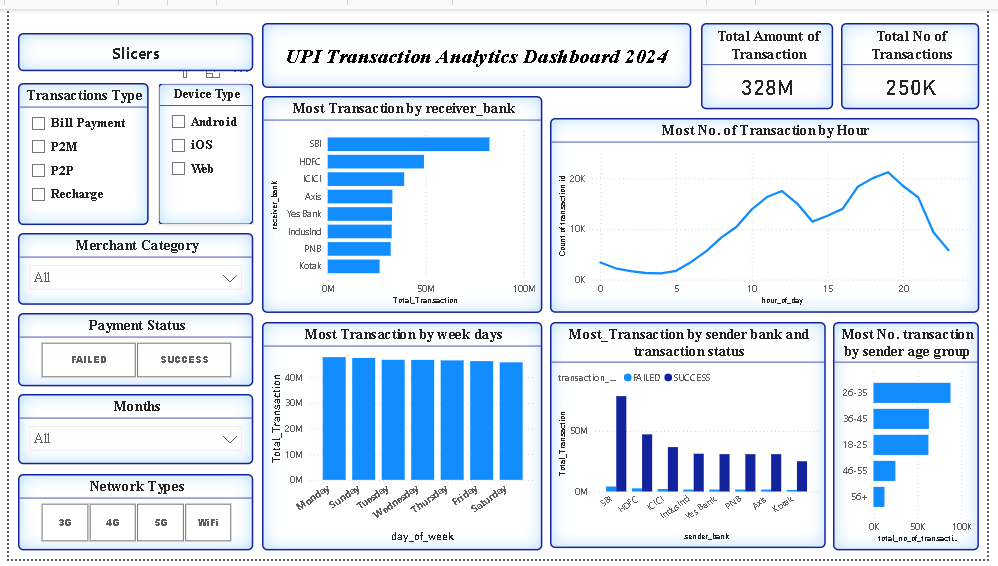

The page's visual inventory and layout, read from the dashboard file:
{"tool":"powerbi","page":{"name":"Page 1","canvas":[1280,720],"ordinal":0},"visuals":[{"type":"card","title":"Total Amount of Transaction ","fields":{"Values":["upi_transactions_2024.Total_Transaction"]},"box":[905.9,18.3,172.8,112.6],"z":0},{"type":"slicer","title":"Payment Status","fields":{"Values":["upi_transactions_2024.transaction_status"]},"box":[12.4,397.8,308.3,96.3],"z":1000},{"type":"slicer","title":"Merchant Category","fields":{"Values":["upi_transactions_2024.merchant_category"]},"box":[12.4,293.2,308.3,93.6],"z":2000},{"type":"slicer","title":"Transactions Type","fields":{"Values":["upi_transactions_2024.transaction type"]},"box":[12.4,96.3,170.7,185.8],"z":3000},{"type":"slicer","title":"Network Types","fields":{"Values":["upi_transactions_2024.network_type"]},"box":[12.4,608.3,308.3,100.5],"z":4000},{"type":"slicer","title":"Device Type","fields":{"Values":["upi_transactions_2024.device_type"]},"box":[195.4,96.3,125.2,185.8],"z":5000},{"type":"card","title":"Total No of Transactions","fields":{"Values":["upi_transactions_2024.total_no_of_transaction"]},"box":[1089.2,18.3,180.7,112.6],"z":6000},{"type":"columnChart","title":"Most Transaction by week days","fields":{"Category":["upi_transactions_2024.day_of_week"],"Y":["upi_transactions_2024.total_no_of_transaction"]},"box":[331.7,410.2,367.5,298.7],"z":7000},{"type":"barChart","title":"Most Transaction by receiver_bank","fields":{"Category":["upi_transactions_2024.receiver_bank"],"Y":["upi_transactions_2024.Total_Transaction"]},"box":[331.7,114.2,367.5,283.5],"z":8000},{"type":"barChart","title":"Most No. transaction by sender age group","fields":{"Y":["upi_transactions_2024.total_no_of_transaction"],"Category":["upi_transactions_2024.sender_age_group"]},"box":[1079.1,410.2,191.3,298.7],"z":9000},{"type":"clusteredColumnChart","title":"Most_Transaction by sender bank and transaction status","fields":{"Category":["upi_transactions_2024.sender_bank"],"Series":["upi_transactions_2024.transaction_status"],"Y":["upi_transactions_2024.Total_Transaction"]},"box":[708.8,410.2,360.6,295.9],"z":10000},{"type":"textbox","box":[331.7,17.9,561.5,85.3],"z":11000},{"type":"textbox","title":"Slicer","box":[12.4,31.7,308.3,49.5],"z":12000},{"type":"slicer","title":"Months","fields":{"Values":["upi_transactions_2024.month"]},"box":[12.4,503.7,308.3,92.2],"z":13000},{"type":"lineChart","title":"Most No. of Transaction  by Hour","fields":{"Y":["CountNonNull(upi_transactions_2024.transaction id)"],"Category":["upi_transactions_2024.hour_of_day"]},"box":[708.8,143.1,561.5,254.6],"z":14000}]}

Visuals, with their boxes in screenshot pixels (x1, y1, x2, y2), scaled from the page's 1280x720 canvas onto the 998x566 screenshot:
"Total Amount of Transaction " card: {"x1": 706, "y1": 14, "x2": 841, "y2": 103}
"Payment Status" slicer: {"x1": 10, "y1": 313, "x2": 250, "y2": 388}
"Merchant Category" slicer: {"x1": 10, "y1": 230, "x2": 250, "y2": 304}
"Transactions Type" slicer: {"x1": 10, "y1": 76, "x2": 143, "y2": 222}
"Network Types" slicer: {"x1": 10, "y1": 478, "x2": 250, "y2": 557}
"Device Type" slicer: {"x1": 152, "y1": 76, "x2": 250, "y2": 222}
"Total No of Transactions" card: {"x1": 849, "y1": 14, "x2": 990, "y2": 103}
"Most Transaction by week days" columnChart: {"x1": 259, "y1": 322, "x2": 545, "y2": 557}
"Most Transaction by receiver_bank" barChart: {"x1": 259, "y1": 90, "x2": 545, "y2": 313}
"Most No. transaction by sender age group" barChart: {"x1": 841, "y1": 322, "x2": 991, "y2": 557}
"Most_Transaction by sender bank and transaction status" clusteredColumnChart: {"x1": 553, "y1": 322, "x2": 834, "y2": 555}
textbox: {"x1": 259, "y1": 14, "x2": 696, "y2": 81}
"Slicer" textbox: {"x1": 10, "y1": 25, "x2": 250, "y2": 64}
"Months" slicer: {"x1": 10, "y1": 396, "x2": 250, "y2": 468}
"Most No. of Transaction  by Hour" lineChart: {"x1": 553, "y1": 112, "x2": 990, "y2": 313}
